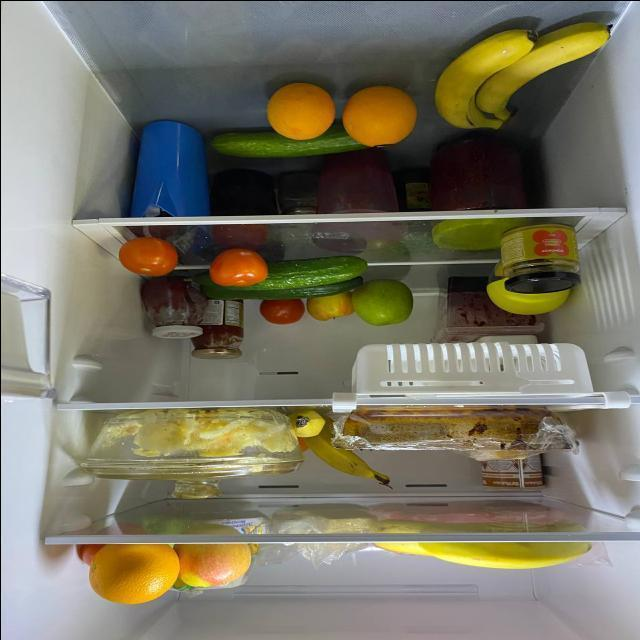apple: (172, 530, 250, 583), (353, 281, 411, 328), (306, 289, 352, 320)
banana: (428, 16, 620, 128), (368, 521, 594, 565), (290, 407, 390, 489)
cucumber: (199, 256, 365, 285), (196, 134, 395, 155), (193, 282, 363, 297)
orange: (87, 542, 185, 601), (342, 86, 418, 147), (266, 82, 341, 139), (291, 436, 313, 460)
tomato: (102, 240, 182, 276), (71, 528, 157, 559), (208, 247, 270, 285), (253, 296, 306, 326)
